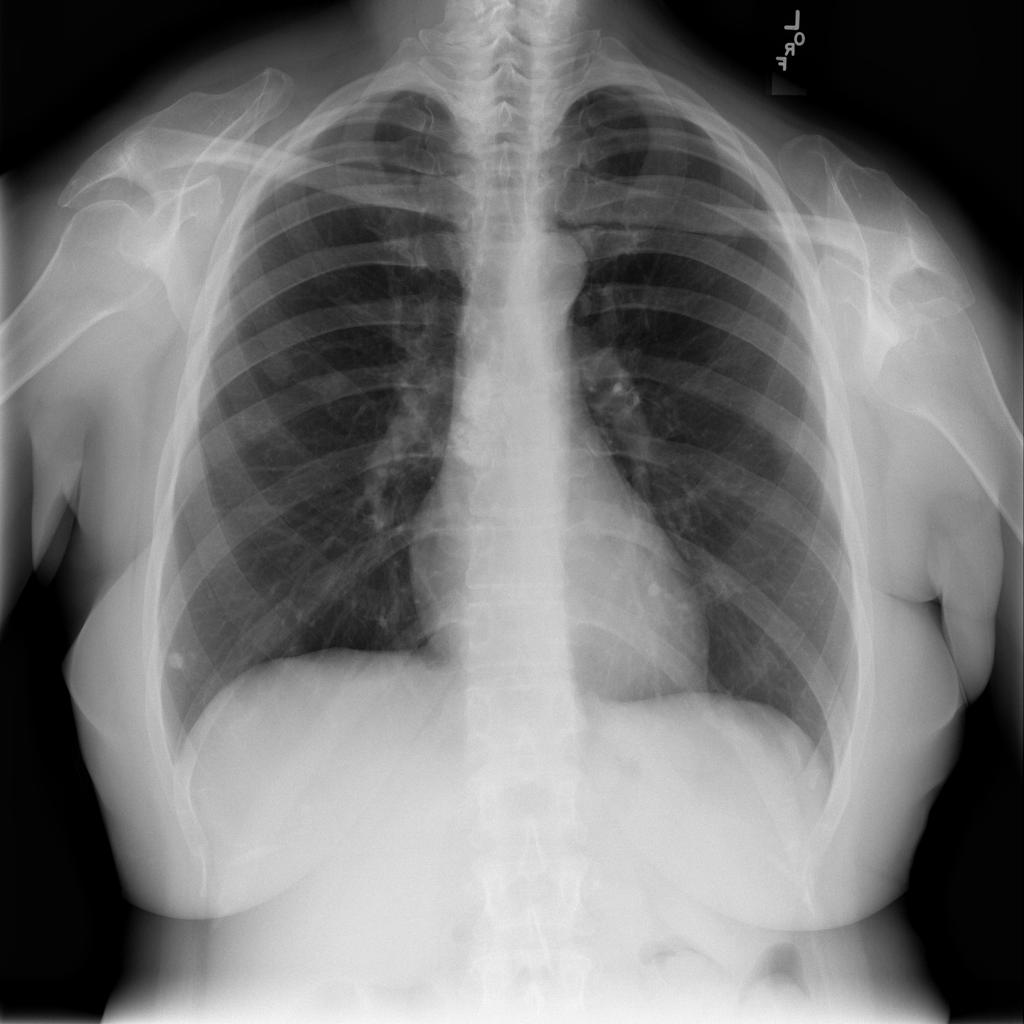nodule: (217, 394, 297, 460), (755, 399, 824, 474), (242, 330, 313, 399), (156, 634, 205, 686)
